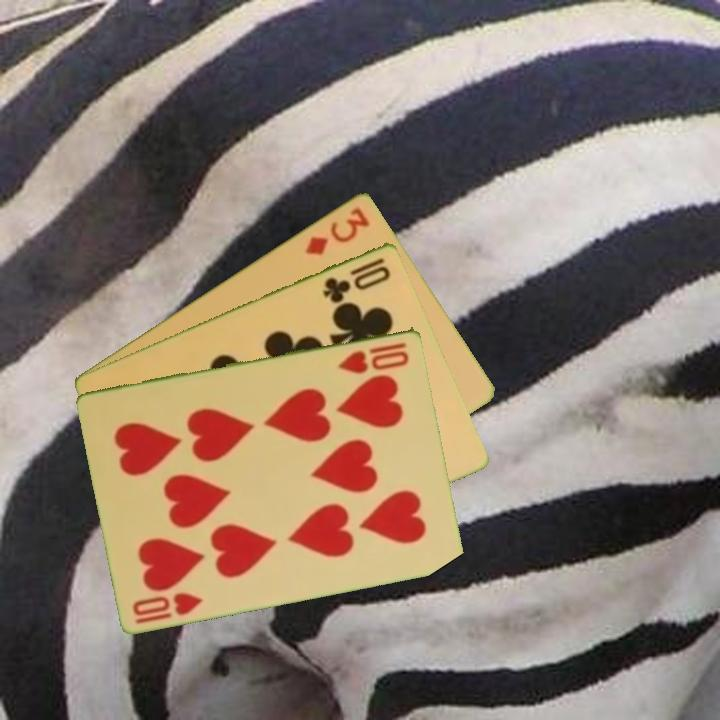10c: (319, 253, 394, 305)
10h: (129, 588, 207, 627), (334, 338, 412, 376)
3d: (301, 203, 373, 258)
